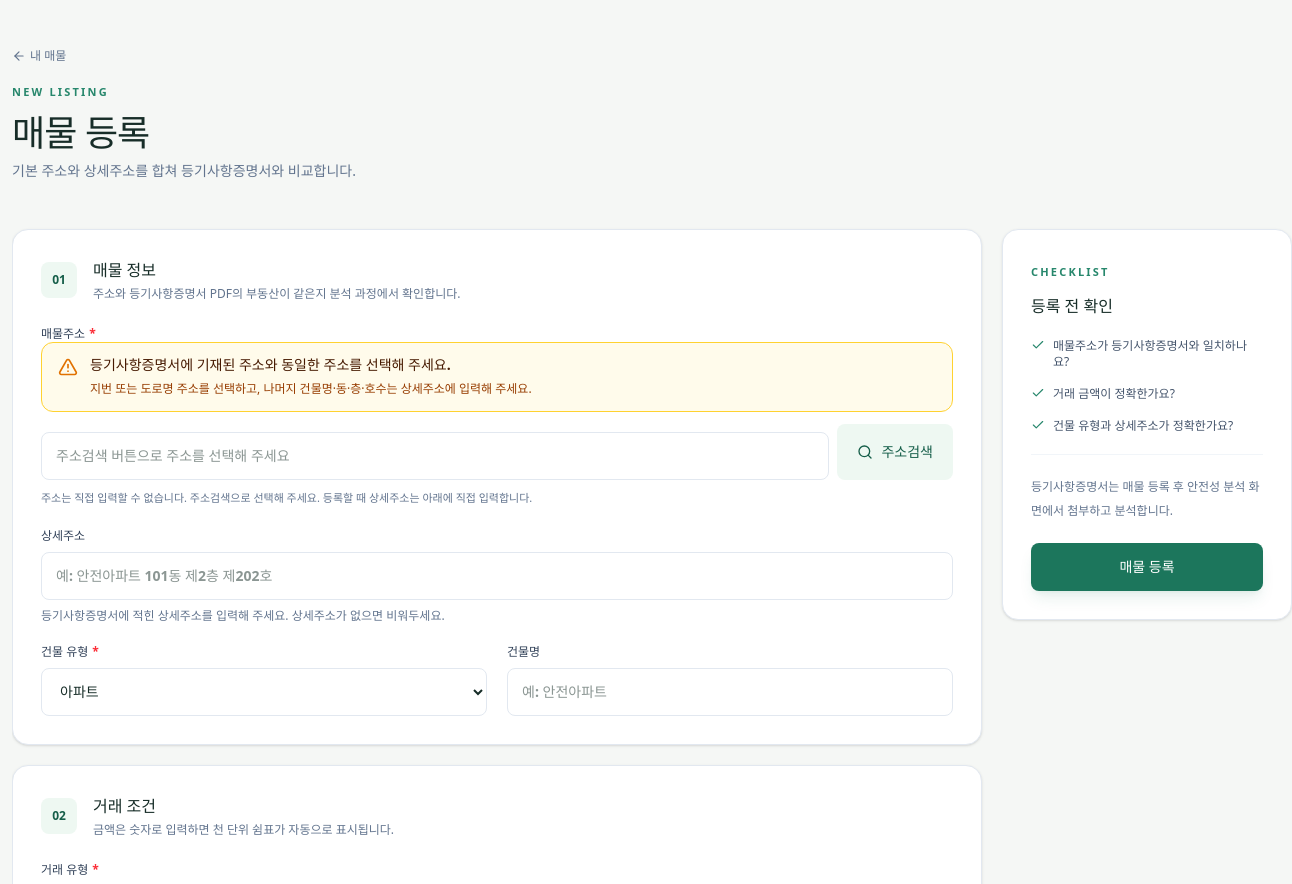
listing registration and correction › rejects a search selection without confirmed cadastral information
Click the button "주소검색".
click(895, 452)  # box [838,424,953,480]
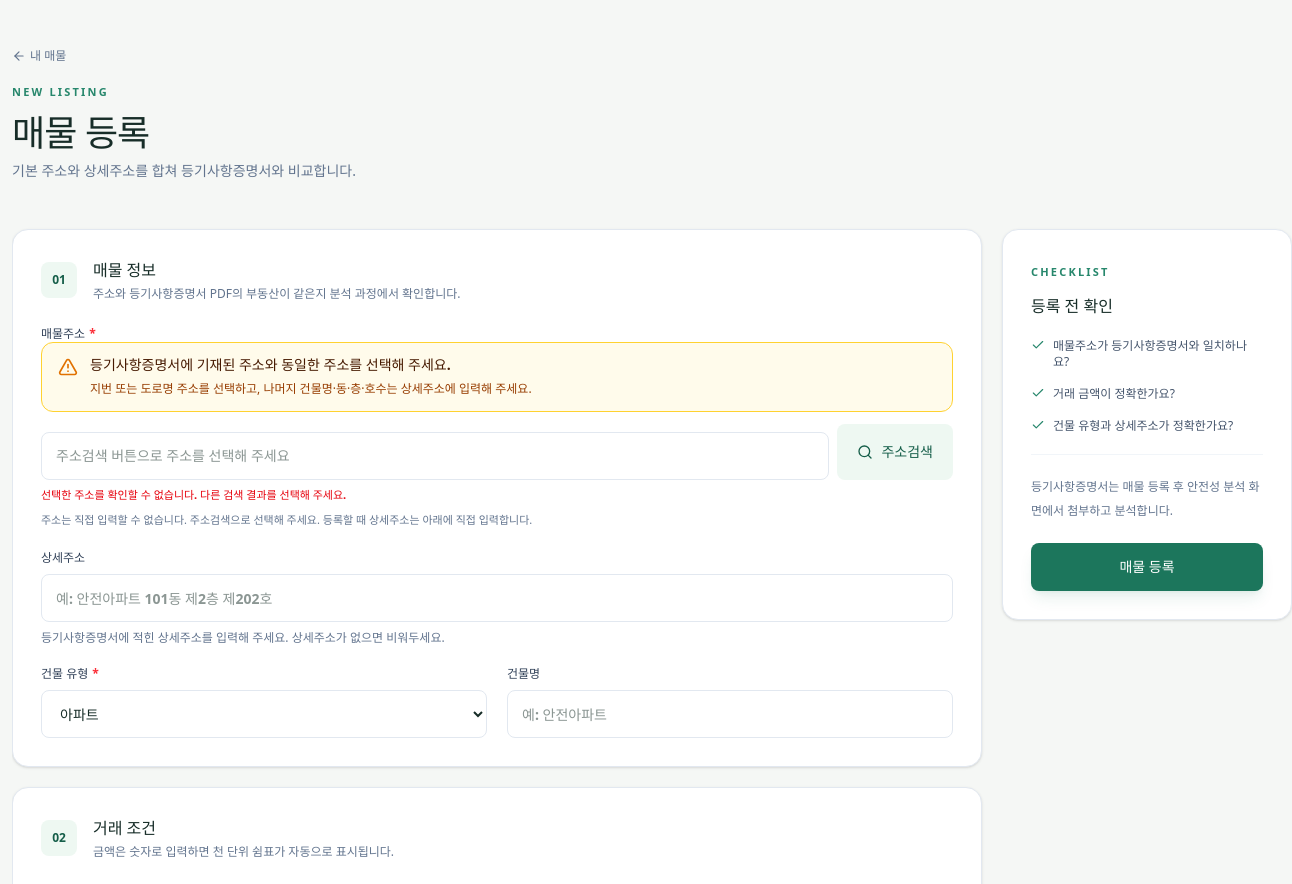
Expected: the field labelled "매물주소" is empty, [41,432,830,480]
Expected: the text "선택한 주소를 확인할 수 없습니다. 다른 검색 결과를 선택해 주세요." is shown, [41,486,346,502]
